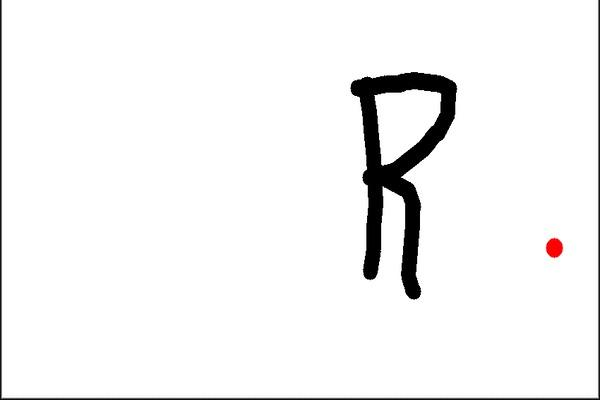R: (344, 58, 457, 301)
